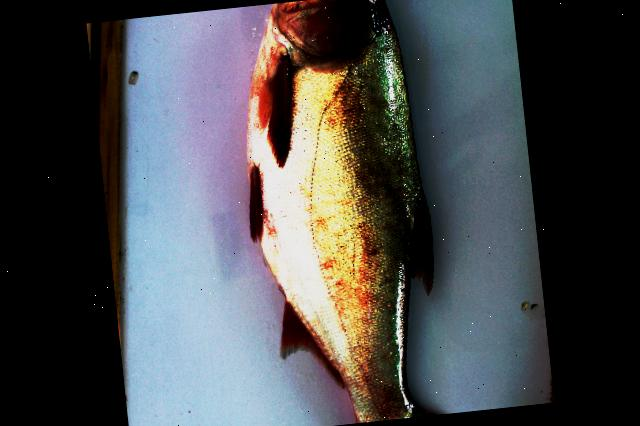Healthy Fish: (247, 0, 438, 423)
